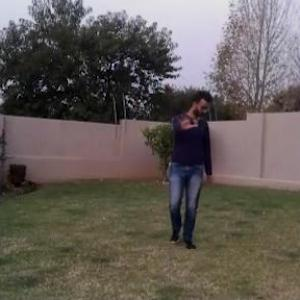follow_hand: (174, 106, 199, 130)
